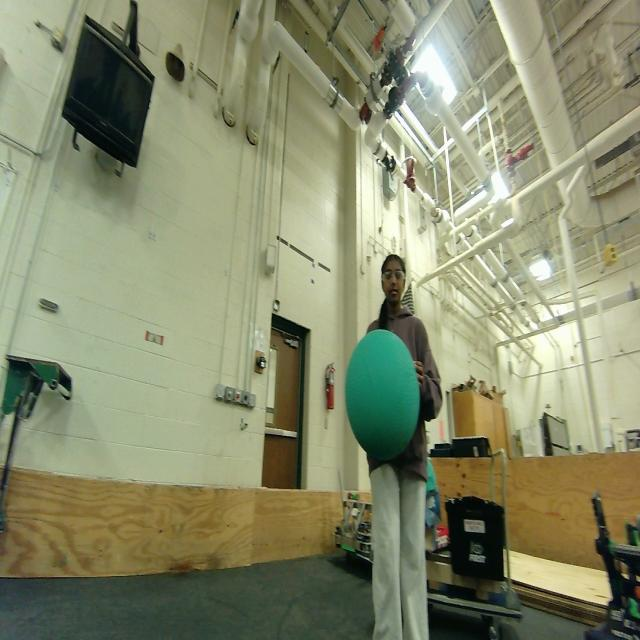algae: (344, 329, 420, 466)
